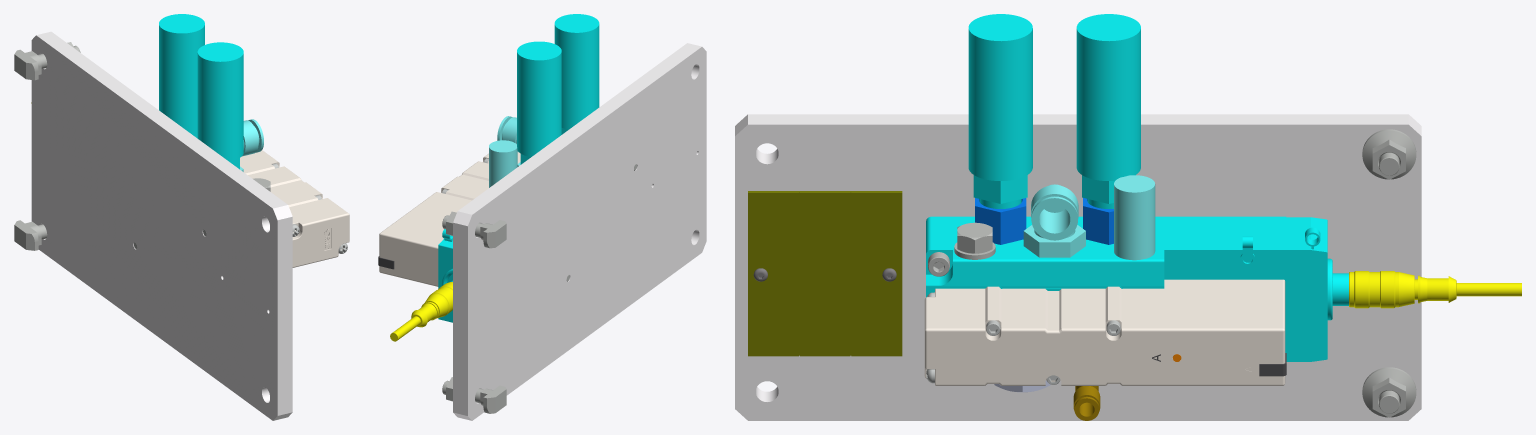
Rendered from PilotValve-transformed.glb.
3 views of the same model, side by side, from view 1: azimuth 30°, elevation 25°; view 2: azimuth 150°, elevation 25°; view 3: azimuth 270°, elevation 25° (orthographic). The views are drawn at different scales.
Visible parts, largest first — view 1: AP727515426; view 2: AP727515426; view 3: AP727515426.
Part boxes in pixels (x1,y1,x2,y2): AP727515426: (14, 14, 349, 420); AP727515426: (378, 14, 706, 420); AP727515426: (735, 14, 1521, 420).
Size of the model in its own units: 0.1029 by 0.1753 by 0.3057.
Materials: 1 (1 with a texture image).
